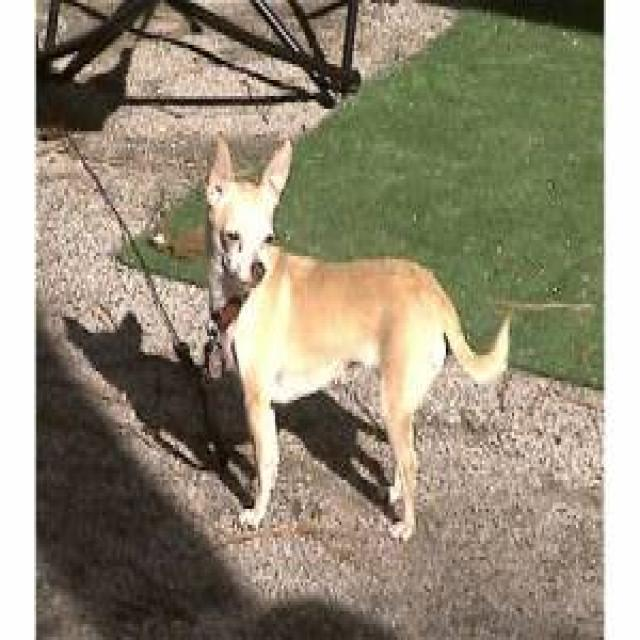dog-chihuahua: (190, 125, 516, 544)
